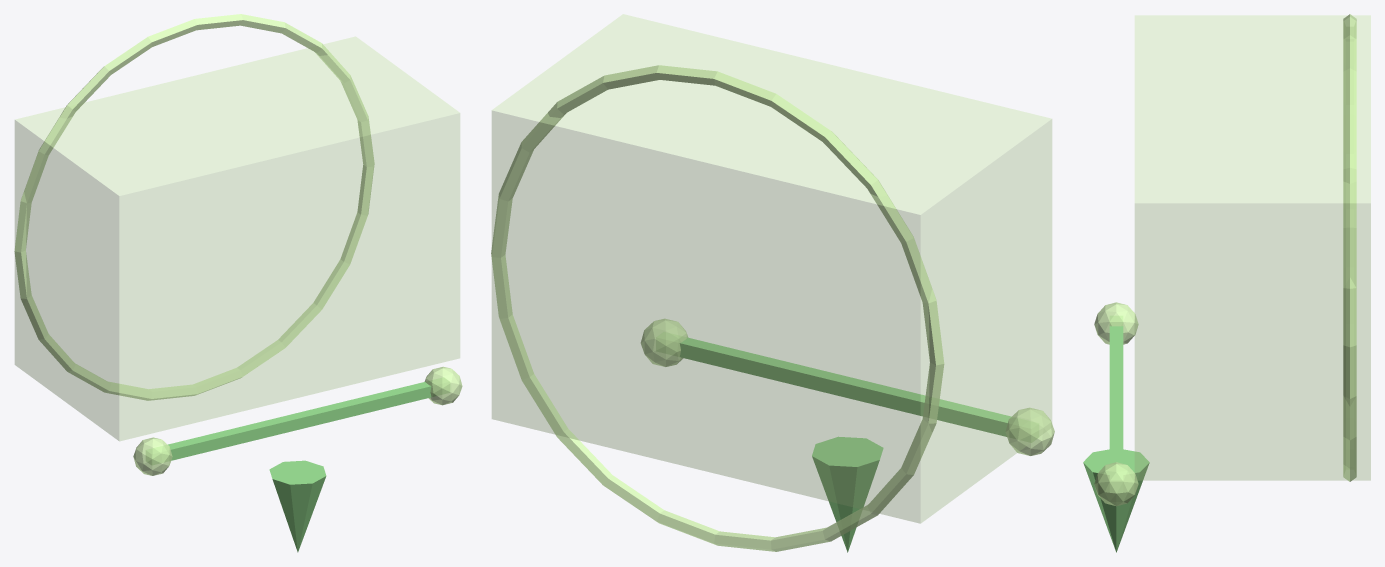
Rendered from 06_dynamic_combat_camera_trigger.glb.
3 views of the same model, side by side, from view 1: azimuth 30°, elevation 25°; view 2: azimuth 150°, elevation 25°; view 3: azimuth 270°, elevation 25° (orthographic). The views are drawn at different scales.
Visible parts, largest first — view 1: combat_camera_volume, combat_start_ring, camera_rail, look_direction, camera_anchor_a, camera_anchor_b; view 2: combat_camera_volume, combat_start_ring, camera_rail, look_direction, camera_anchor_a, camera_anchor_b; view 3: combat_camera_volume, combat_start_ring, look_direction, camera_rail, camera_anchor_b, camera_anchor_a.
Part boxes in pixels (left/top/right/bottom): combat_camera_volume: left=15, top=36, right=459, bottom=441; combat_start_ring: left=14, top=14, right=374, bottom=400; camera_rail: left=146, top=378, right=449, bottom=464; look_direction: left=269, top=460, right=326, bottom=552; camera_anchor_a: left=133, top=437, right=172, bottom=475; camera_anchor_b: left=424, top=366, right=462, bottom=405; combat_camera_volume: left=492, top=14, right=1051, bottom=523; combat_start_ring: left=491, top=65, right=944, bottom=551; camera_rail: left=679, top=337, right=1011, bottom=436; look_direction: left=812, top=436, right=883, bottom=552; camera_anchor_a: left=1005, top=407, right=1054, bottom=455; camera_anchor_b: left=641, top=318, right=687, bottom=366; combat_camera_volume: left=1135, top=15, right=1370, bottom=480; combat_start_ring: left=1343, top=14, right=1356, bottom=481; look_direction: left=1083, top=449, right=1149, bottom=552; camera_rail: left=1109, top=316, right=1123, bottom=492; camera_anchor_b: left=1094, top=462, right=1138, bottom=506; camera_anchor_a: left=1094, top=302, right=1138, bottom=344.
Size of the model in its own units: 1.69 by 2.06 by 1.03.
